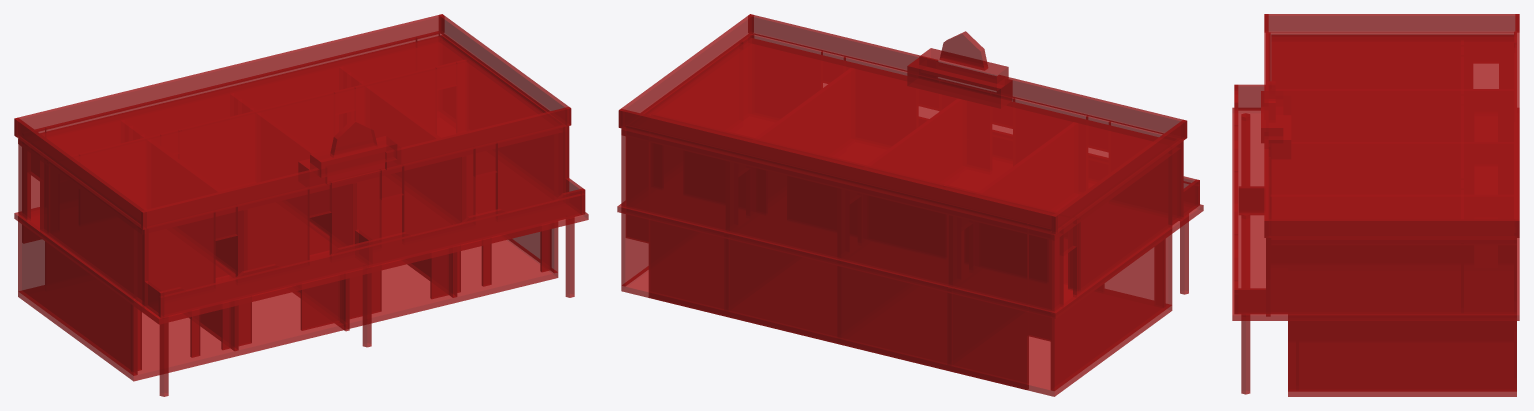
Rendered from SM_Bld_Shop_08_Collision.fbx.
3 views of the same model, side by side, from view 1: azimuth 30°, elevation 25°; view 2: azimuth 150°, elevation 25°; view 3: azimuth 270°, elevation 25° (orthographic). The views are drawn at different scales.
Parts seen in each view (by area): view 1: SM_Bld_Shop_08_Collision; view 2: SM_Bld_Shop_08_Collision; view 3: SM_Bld_Shop_08_Collision.
Part boxes in pixels (box(x1,y1,x2,y2)): SM_Bld_Shop_08_Collision: box(14, 14, 588, 396); SM_Bld_Shop_08_Collision: box(617, 14, 1203, 396); SM_Bld_Shop_08_Collision: box(1232, 14, 1519, 396).
Bounding box in the file's own units: 2147 × 1026 × 1255.
